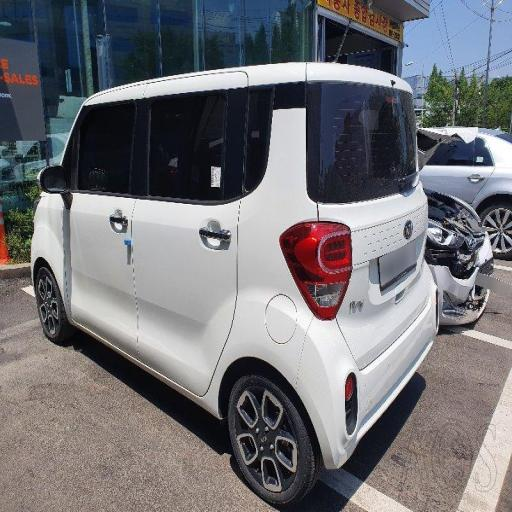normal: (34, 79, 439, 451)
